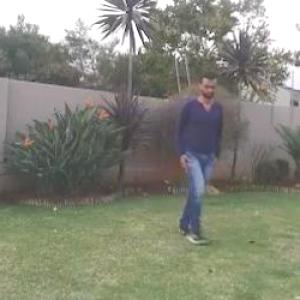follow: (176, 66, 221, 222)
